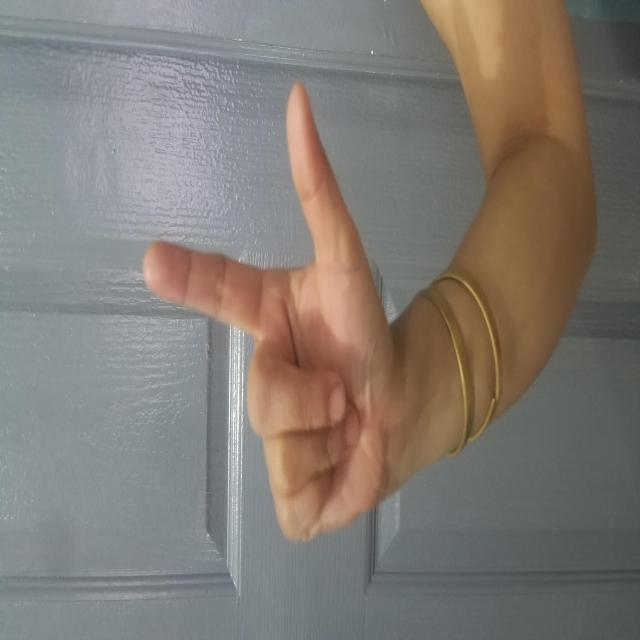L: (94, 141, 554, 394)
